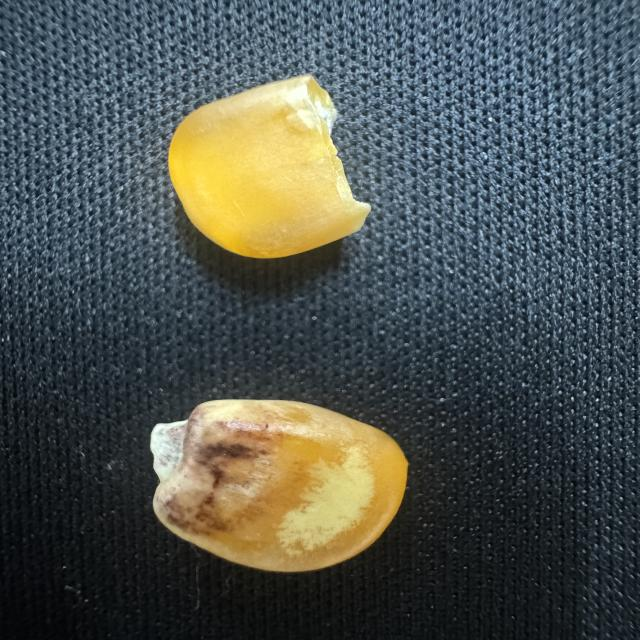Bad-Seed: (138, 391, 414, 575), (164, 64, 378, 278)
